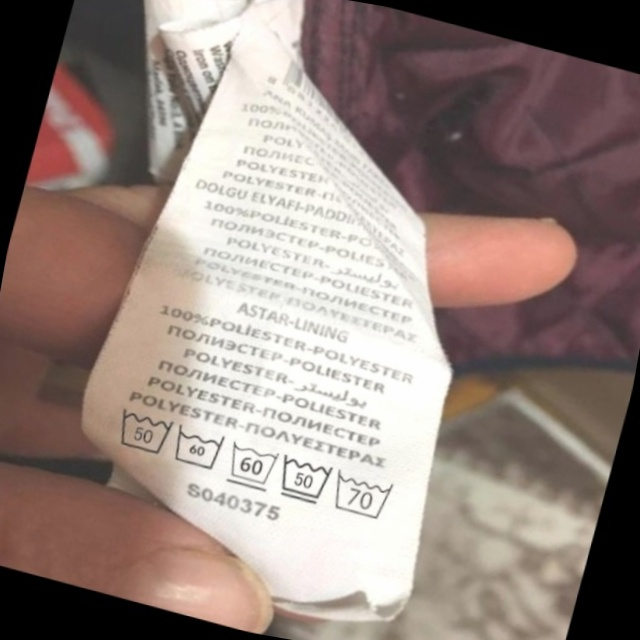50C: (105, 396, 183, 465), (269, 447, 341, 513)
60C: (219, 433, 288, 498), (165, 417, 234, 480)
70C: (326, 463, 404, 528)
